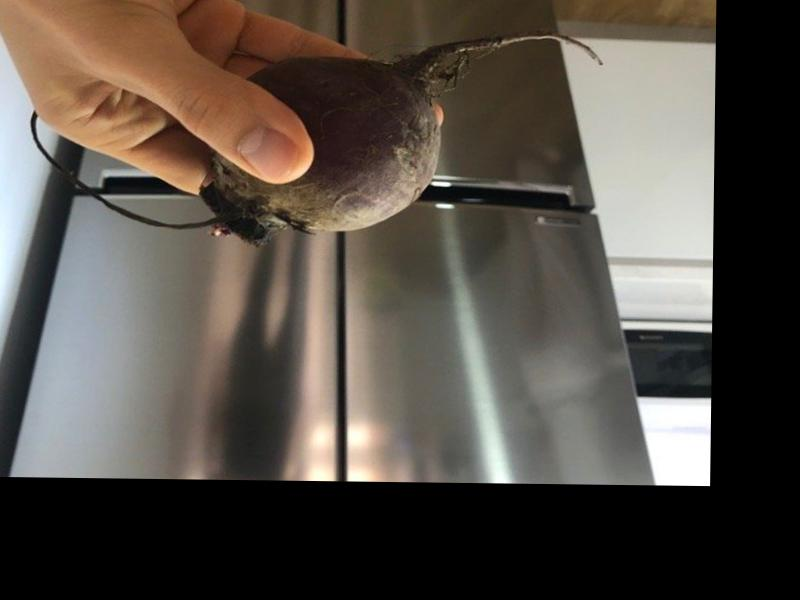Beet: (29, 25, 607, 246)
